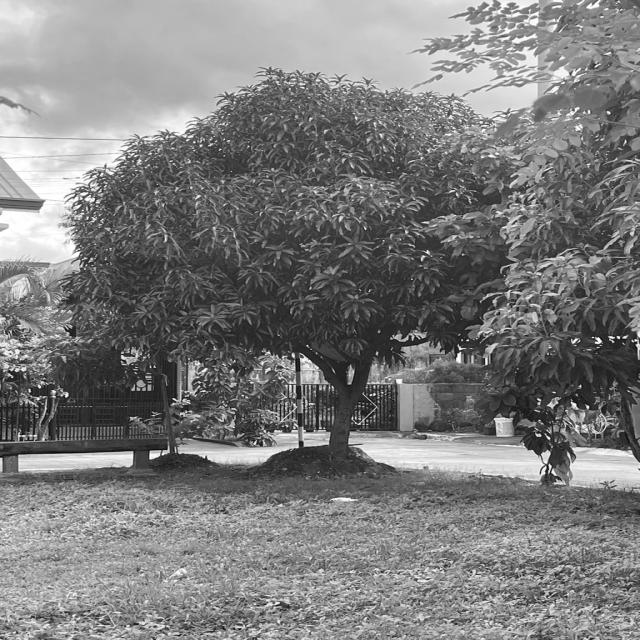Mango-Tree: (43, 60, 518, 432)
